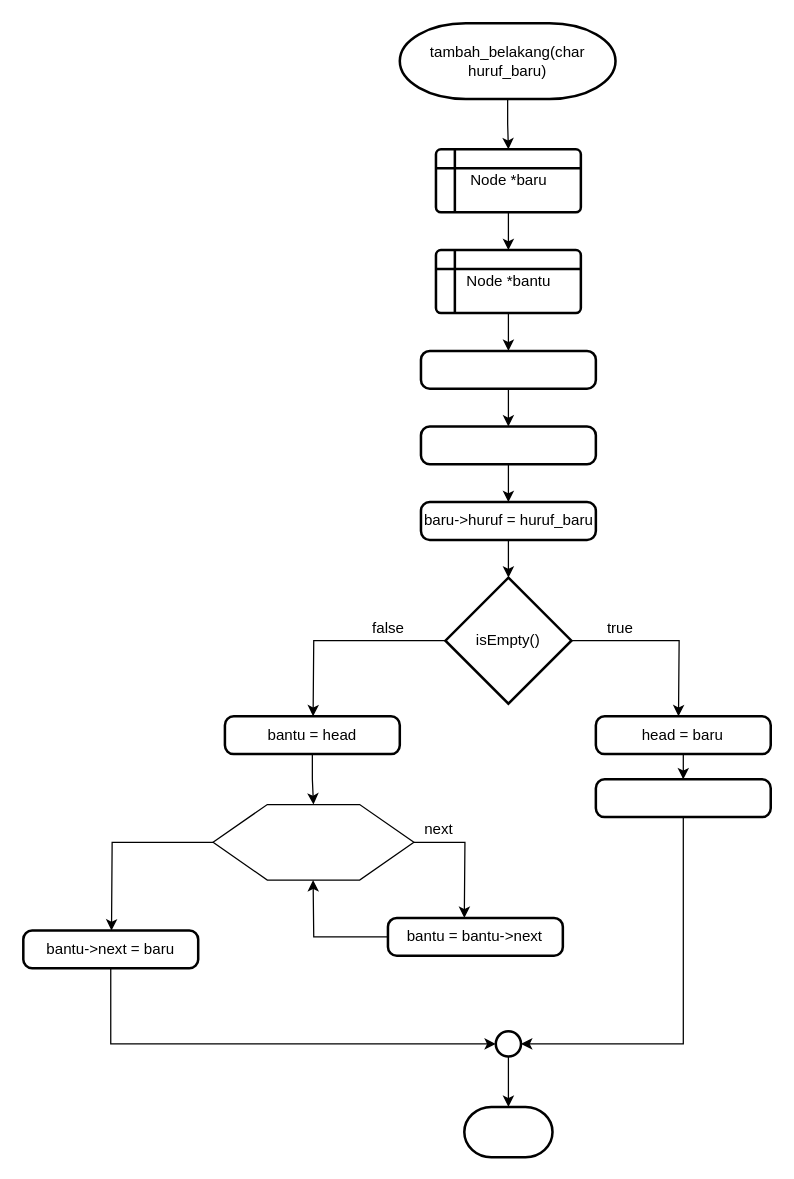
This 794x1179 diagram has some shape labels left out. The centre of each missing label's shape, as x and y in pixels:
bantu->next != NULL: the point at 313,841
baru = new Node: the point at 507,369
baru->next = NULL: the point at 507,445
End: the point at 507,1131
head->next = NULL: the point at 682,797
